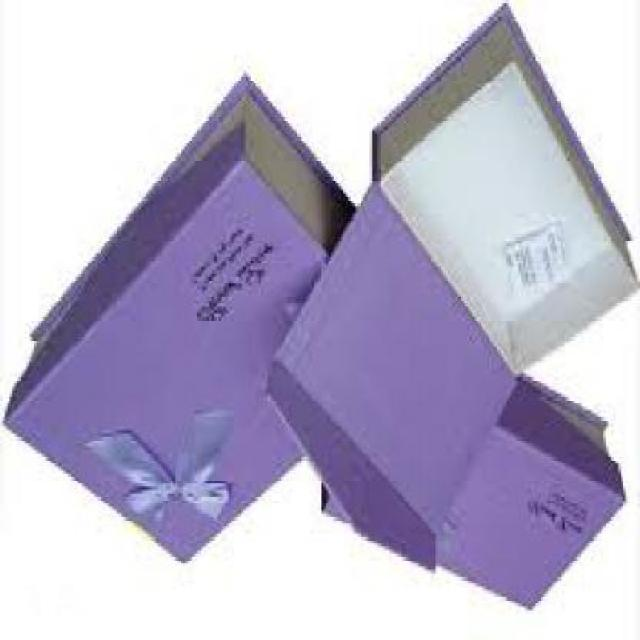CARDBOARD: (262, 4, 638, 573), (0, 77, 358, 566), (319, 377, 623, 614)
